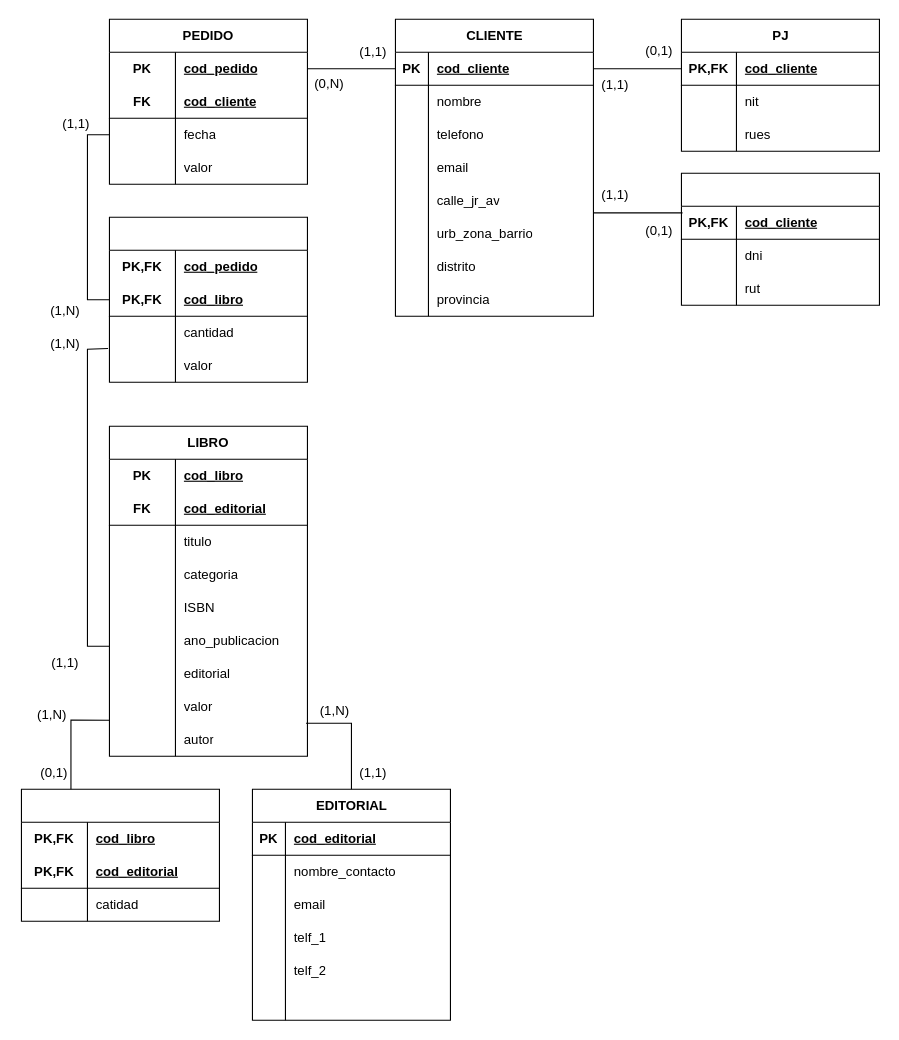
The diagram is 899 pixels wide and 1040 high, and some of its shapes have lost their labels. Here are the shapes that lost their labels. From the top down, the box of each, then its label:
(680, 172, 879, 305): PN
(108, 216, 307, 382): ITEMS
(20, 788, 219, 921): INVENTARIO
